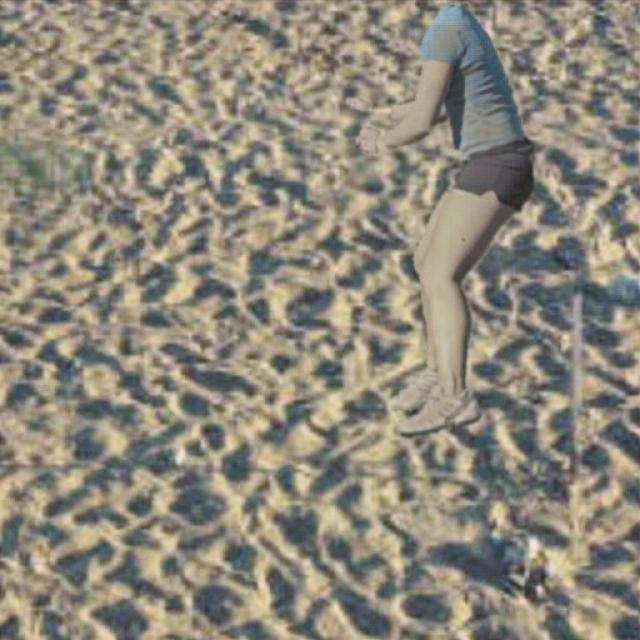Person in Rubble: (345, 4, 533, 436)
